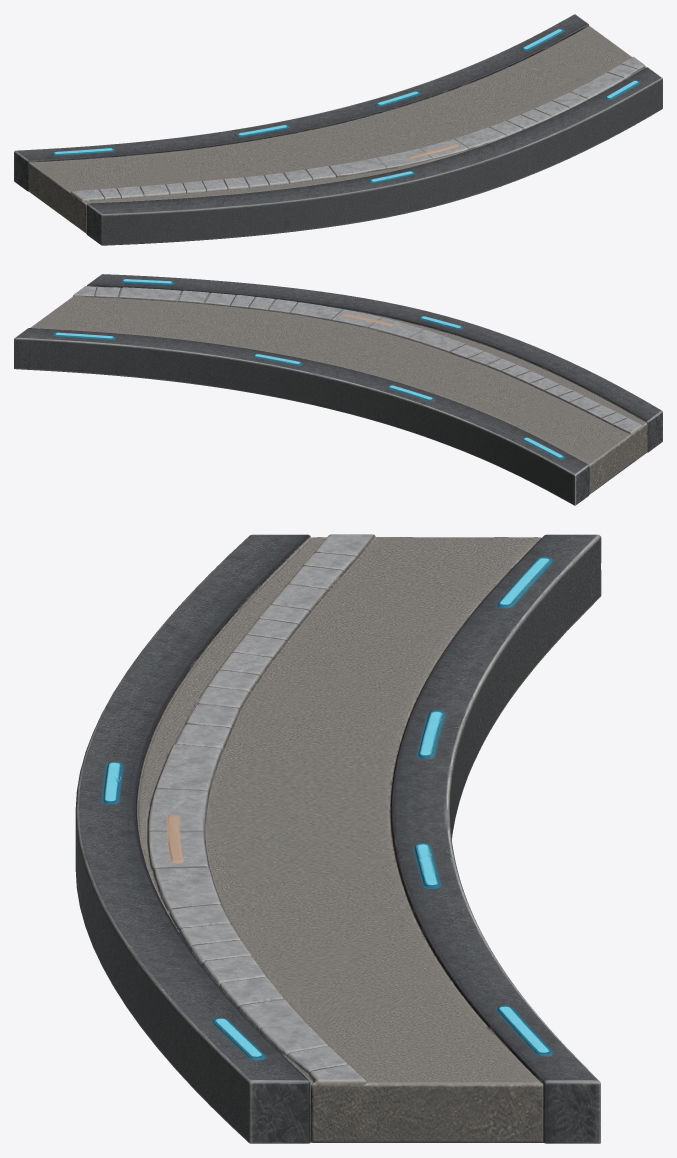
File: midori_path_curve.glb
3 renders of one model, top to bottom at view 1: azimuth 30°, elevation 25°; view 2: azimuth 150°, elevation 25°; view 3: azimuth 270°, elevation 25°, orthographic. The views are drawn at different scales.
Size of the model in its own units: 1.9 by 0.104 by 0.771.
Materials: 1 (1 with a texture image).
